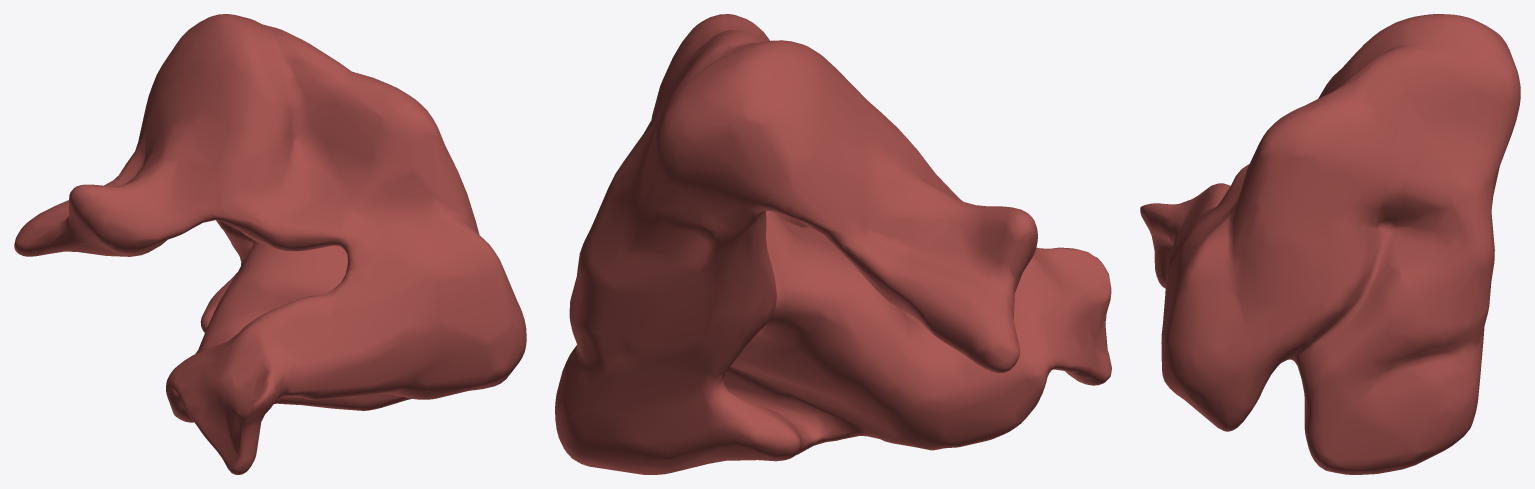
File: FMA72668.glb
3 views of the same model, side by side, from view 1: azimuth 30°, elevation 25°; view 2: azimuth 150°, elevation 25°; view 3: azimuth 270°, elevation 25° (orthographic). The views are drawn at different scales.
Visible parts, largest first — view 1: FMA72668; view 2: FMA72668; view 3: FMA72668.
Boxes of the visible parts, left/top/right/bottom form: FMA72668: left=14, top=14, right=526, bottom=474; FMA72668: left=555, top=14, right=1111, bottom=474; FMA72668: left=1140, top=14, right=1520, bottom=474.
Size of the model in its own units: 0.0434 by 0.0396 by 0.0358.
